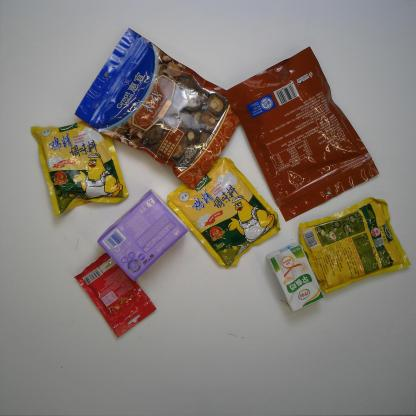Candy: (74, 250, 159, 340)
Dried Food: (73, 24, 247, 191), (222, 43, 381, 225)
Milk: (265, 241, 325, 313)
Seasoner: (165, 155, 283, 273), (297, 194, 413, 296), (29, 116, 130, 221)
Tissue: (96, 187, 188, 281)
